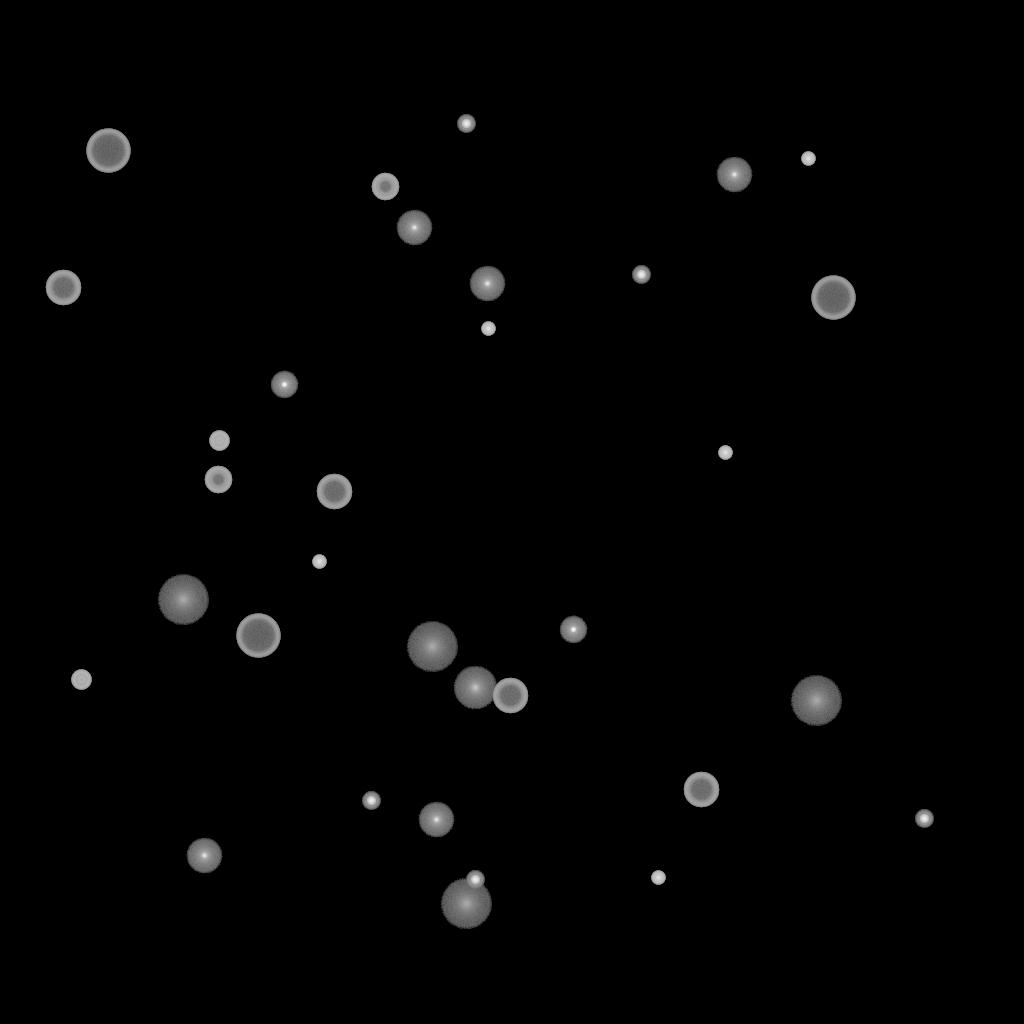depth:-10: (270, 371, 298, 399), (559, 616, 587, 644)
depth:-20: (362, 792, 380, 810), (466, 871, 484, 889), (457, 115, 475, 133), (915, 810, 933, 828), (632, 266, 650, 284)
depth:-30: (481, 322, 495, 336), (651, 871, 665, 885), (801, 152, 815, 166), (312, 555, 326, 569), (718, 446, 732, 460)
depth:-40: (71, 670, 91, 690), (209, 431, 229, 451)
depth:-50: (204, 466, 232, 494), (371, 173, 399, 201)
depth:-60: (683, 772, 719, 808), (492, 678, 528, 714), (45, 270, 81, 306), (316, 474, 352, 510)
depth:-70: (86, 129, 130, 173), (811, 276, 855, 320), (236, 614, 280, 658)
depth:0: (396, 210, 432, 246), (469, 266, 505, 302), (716, 157, 752, 193), (186, 838, 222, 874), (418, 802, 454, 838)
depth:10: (453, 666, 497, 710)
depth:20: (157, 575, 209, 625), (406, 622, 458, 672), (440, 879, 492, 929), (790, 676, 842, 726)
